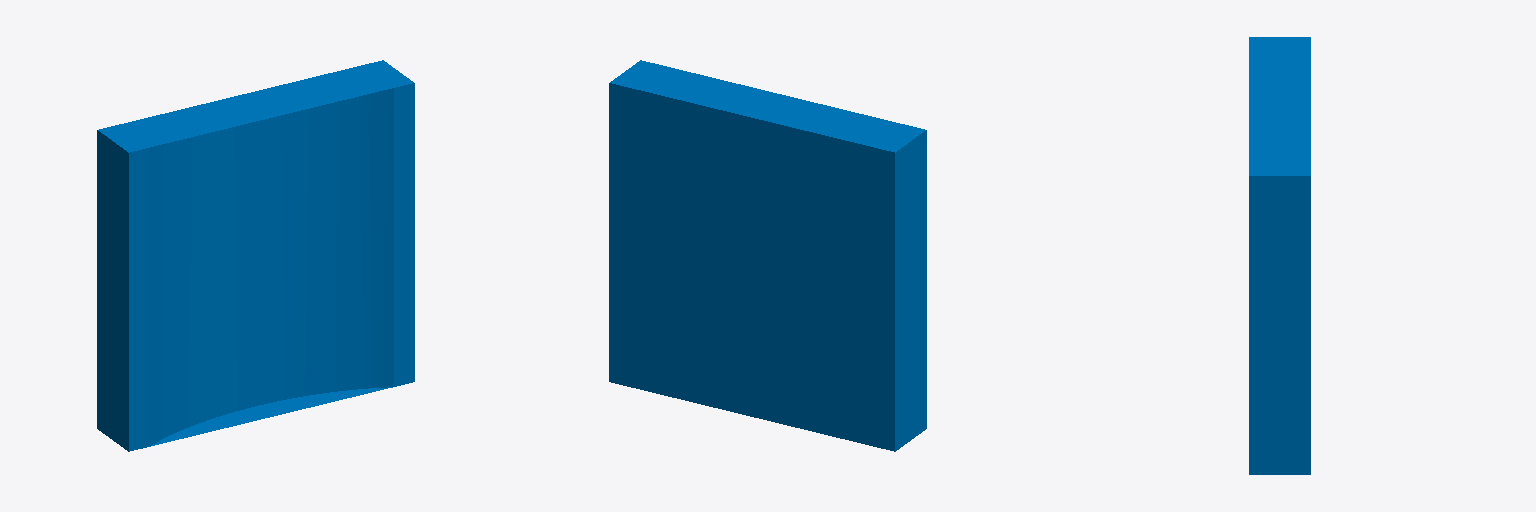
File: lens_2.obj
3 views of the same model, side by side, from view 1: azimuth 30°, elevation 25°; view 2: azimuth 150°, elevation 25°; view 3: azimuth 270°, elevation 25° (orthographic).
Visible parts, largest first — view 1: Cube_Cube.001; view 2: Cube_Cube.001; view 3: Cube_Cube.001.
Boxes of the visible parts, <box> form: Cube_Cube.001: <box>97,60,414,451</box>; Cube_Cube.001: <box>609,60,926,451</box>; Cube_Cube.001: <box>1249,37,1310,474</box>.
Bounding box in the file's own units: 3.12 × 3.12 × 0.5882.